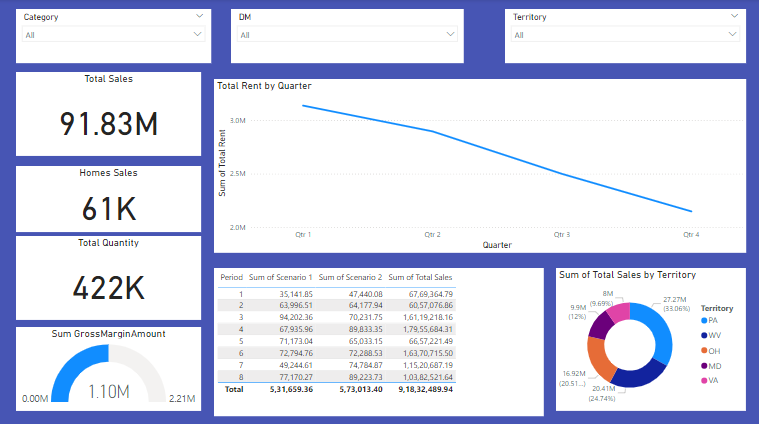

The dashboard page shown, as its layout file describes it:
{"tool":"powerbi","page":{"name":"Page 1","canvas":[1280,720],"ordinal":0},"visuals":[{"type":"slicer","fields":{"Values":["Items.Category"]},"box":[26.9,16.8,327.6,90.7],"z":0},{"type":"slicer","fields":{"Values":["District.DM"]},"box":[388,16.8,391.4,90.7],"z":1000},{"type":"donutChart","fields":{"Category":["Stores.Territory"],"Y":["Sum(Sales.Total Sales)"]},"box":[934,451.9,319.2,240.2],"z":2000},{"type":"lineChart","title":"Total Rent by Quarter","fields":{"Y":["Sum(Stores.Total Rent)"],"Category":["Stores.OpenDate.Variation.Date Hierarchy.Quarter"]},"box":[359.5,134.4,893.6,292.3],"z":3000},{"type":"card","title":"Total Sales","fields":{"Values":["Sum(Sales.Total Sales)"]},"box":[26.9,122.6,310.8,141.1],"z":4000},{"type":"card","title":"Total Quantity","fields":{"Values":["Sum(Sales.Total QTY)"]},"box":[26.9,398.1,310.8,141.1],"z":5000},{"type":"gauge","title":"Sum GrossMarginAmount","fields":{"Y":["Sum(Sales.Sum_GrossMarginAmount)"]},"box":[26.9,551,310.8,141.1],"z":6000},{"type":"card","title":"Homes Sales","fields":{"Values":["Sum(Sales.Total QTY)"]},"box":[26.9,280.5,310.8,110.9],"z":7000},{"type":"slicer","fields":{"Values":["Stores.Territory"]},"box":[848.3,16.8,404.8,90.7],"z":8000},{"type":"tableEx","fields":{"Values":["Time.Period","Sum(Sales.sum of total Scenario 1)","Sum(Sales.Scenario 2)","Sum(Sales.Total Sales)"]},"box":[359.5,451.9,554.3,248.6],"z":9000}]}

Visuals, with their boxes in screenshot pixels (x1, y1, x2, y2), scaled from the page's 1280x720 canvas onto the 759x424 screenshot:
slicer - Items.Category: box=[16, 10, 210, 63]
slicer - District.DM: box=[230, 10, 462, 63]
donutChart - Stores.Territory x Sum(Sales.Total Sales): box=[554, 266, 743, 408]
"Total Rent by Quarter" lineChart: box=[213, 79, 743, 251]
"Total Sales" card: box=[16, 72, 200, 155]
"Total Quantity" card: box=[16, 234, 200, 318]
"Sum GrossMarginAmount" gauge: box=[16, 324, 200, 408]
"Homes Sales" card: box=[16, 165, 200, 230]
slicer - Stores.Territory: box=[503, 10, 743, 63]
tableEx - Time.Period x Sum(Sales.sum of total Scenario 1): box=[213, 266, 542, 413]
